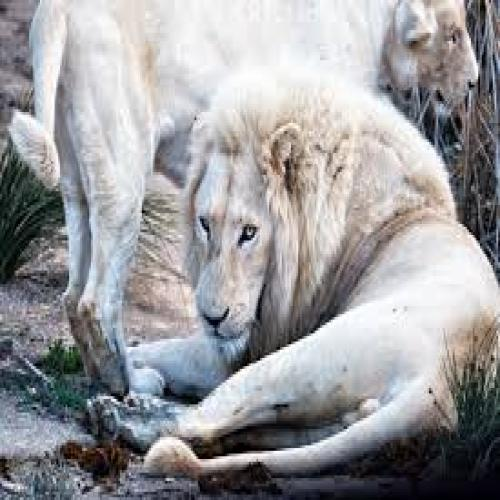lion-endangered: (102, 71, 500, 481), (22, 3, 476, 356)
